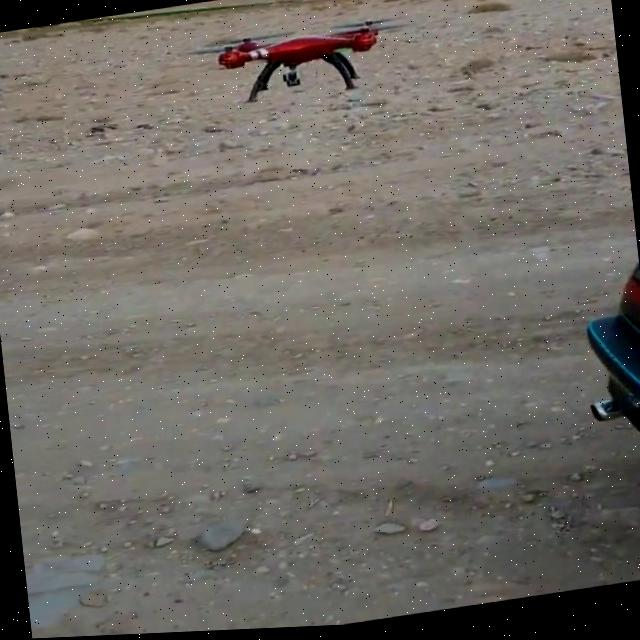drone: (180, 11, 414, 119)
